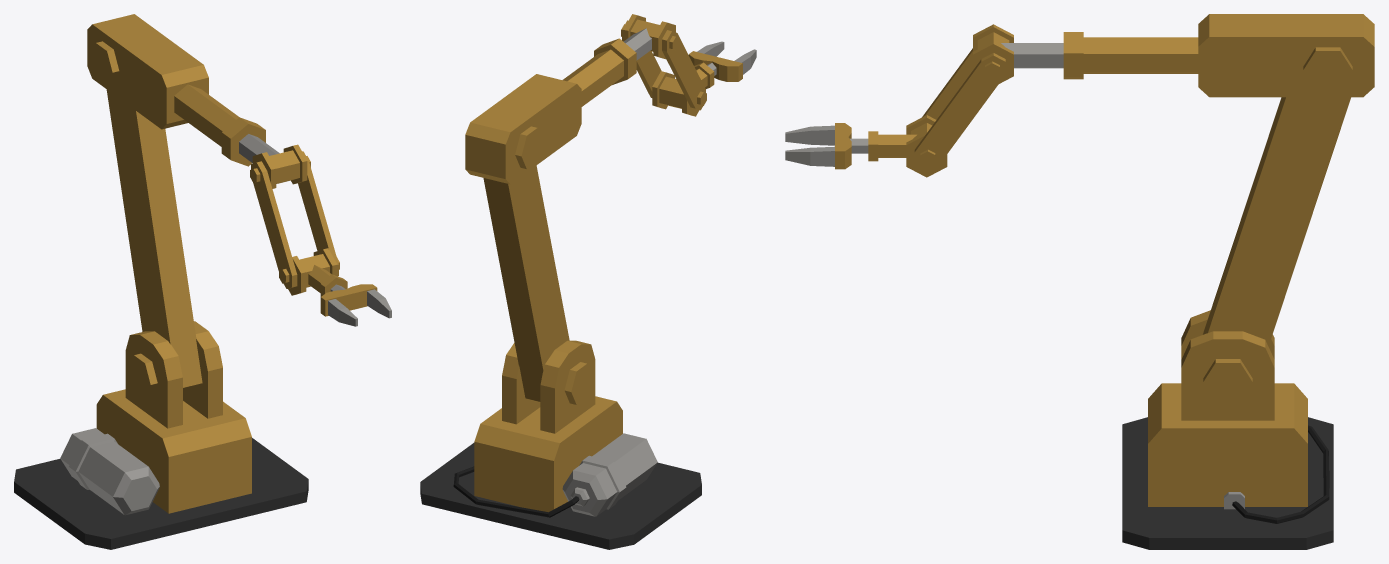
File: SM_Props_Interior_Generic_Factory_Robot.fbx
The picture shows the model from 3 angles, left to right: view 1: azimuth 30°, elevation 25°; view 2: azimuth 150°, elevation 25°; view 3: azimuth 270°, elevation 25°; orthographic projection. The views are drawn at different scales.
Parts seen in each view (by area): view 1: SM_Props_Interior_Generic_Factory_Robot, SM_Props_Interior_Generic_Factory_Robot_02, SM_Props_Interior_Generic_Factory_Robot_04, SM_Props_Interior_Generic_Factory_Robot_03; view 2: SM_Props_Interior_Generic_Factory_Robot, SM_Props_Interior_Generic_Factory_Robot_02, SM_Props_Interior_Generic_Factory_Robot_04, SM_Props_Interior_Generic_Factory_Robot_03; view 3: SM_Props_Interior_Generic_Factory_Robot, SM_Props_Interior_Generic_Factory_Robot_02, SM_Props_Interior_Generic_Factory_Robot_04, SM_Props_Interior_Generic_Factory_Robot_03.
Part boxes in pixels (x1,y1,x2,y2): SM_Props_Interior_Generic_Factory_Robot: (14, 41, 308, 549); SM_Props_Interior_Generic_Factory_Robot_02: (87, 14, 310, 188); SM_Props_Interior_Generic_Factory_Robot_04: (279, 248, 391, 326); SM_Props_Interior_Generic_Factory_Robot_03: (251, 151, 338, 288); SM_Props_Interior_Generic_Factory_Robot: (420, 126, 701, 549); SM_Props_Interior_Generic_Factory_Robot_02: (465, 14, 679, 184); SM_Props_Interior_Generic_Factory_Robot_04: (652, 41, 756, 116); SM_Props_Interior_Generic_Factory_Robot_03: (622, 20, 705, 110); SM_Props_Interior_Generic_Factory_Robot: (1122, 47, 1352, 549); SM_Props_Interior_Generic_Factory_Robot_02: (973, 14, 1374, 97); SM_Props_Interior_Generic_Factory_Robot_04: (785, 115, 947, 177); SM_Props_Interior_Generic_Factory_Robot_03: (914, 48, 1005, 171).
Size of the model in its own units: 0.8603 by 1.56 by 1.77.
